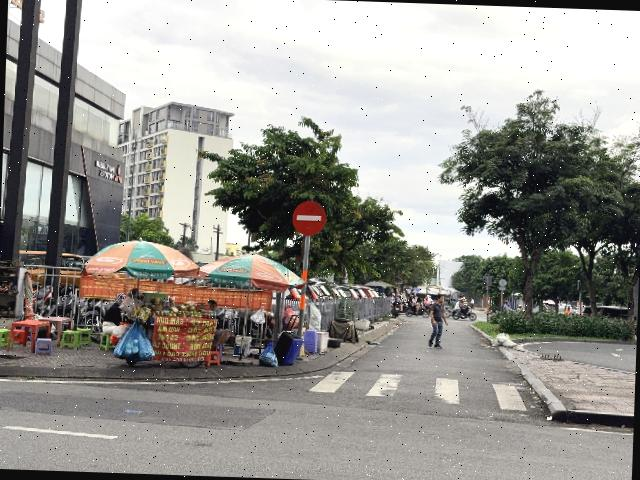cam-di-nguoc-chieu: (292, 200, 327, 236)
